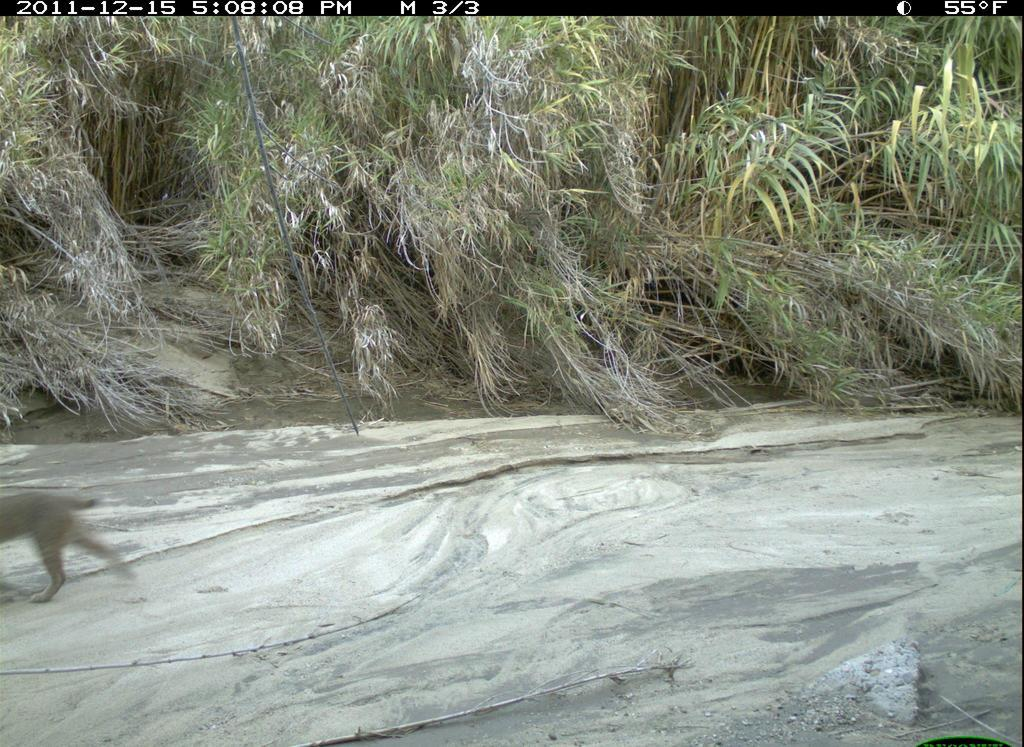bobcat: (2, 478, 136, 619)
